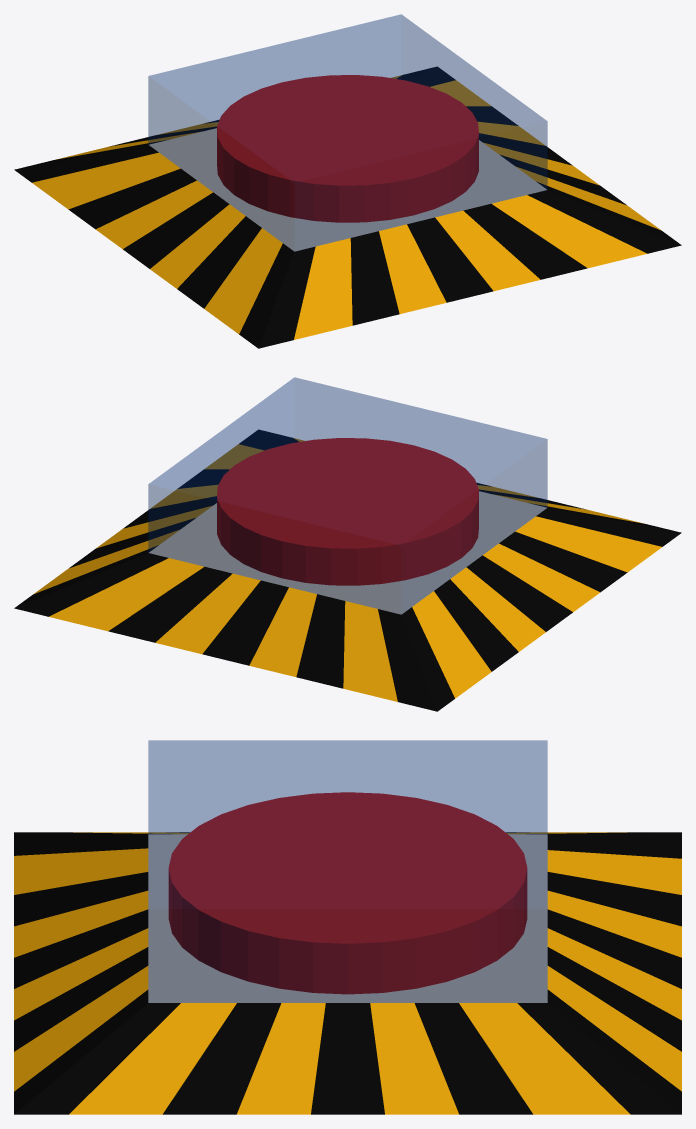
File: THATButton.fbx
3 views of the same model, one above another, from view 1: azimuth 30°, elevation 25°; view 2: azimuth 150°, elevation 25°; view 3: azimuth 270°, elevation 25° (orthographic). The views are drawn at different scales.
Visible parts, largest first — view 1: Cube, Cube.001, Cylinder; view 2: Cube, Cube.001, Cylinder; view 3: Cube, Cube.001, Cylinder.
Boxes of the visible parts, <box> form: Cube: <box>14,66,681,348</box>; Cube.001: <box>148,14,547,250</box>; Cylinder: <box>217,75,478,222</box>; Cube: <box>14,429,681,711</box>; Cube.001: <box>148,377,547,613</box>; Cylinder: <box>217,438,478,585</box>; Cube: <box>14,832,681,1114</box>; Cube.001: <box>148,740,547,1002</box>; Cylinder: <box>168,792,527,994</box>.
Size of the model in its own units: 200 by 49.2 by 200.
